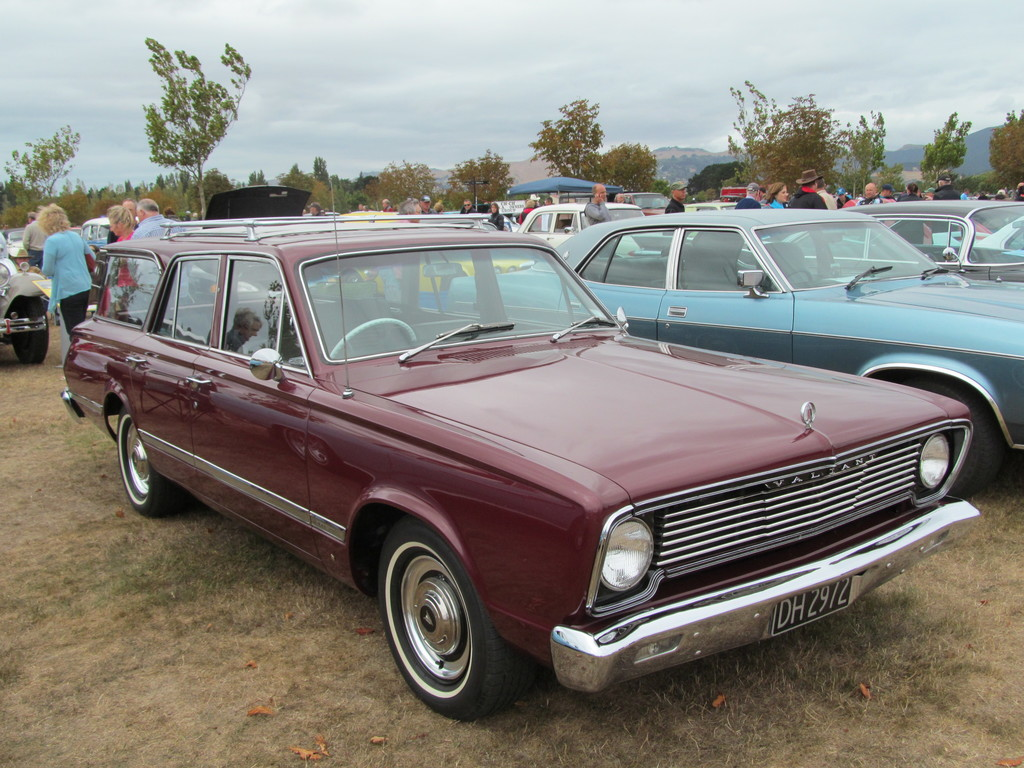Car: (0, 181, 1023, 721), (0, 236, 49, 362), (1, 226, 30, 267)
